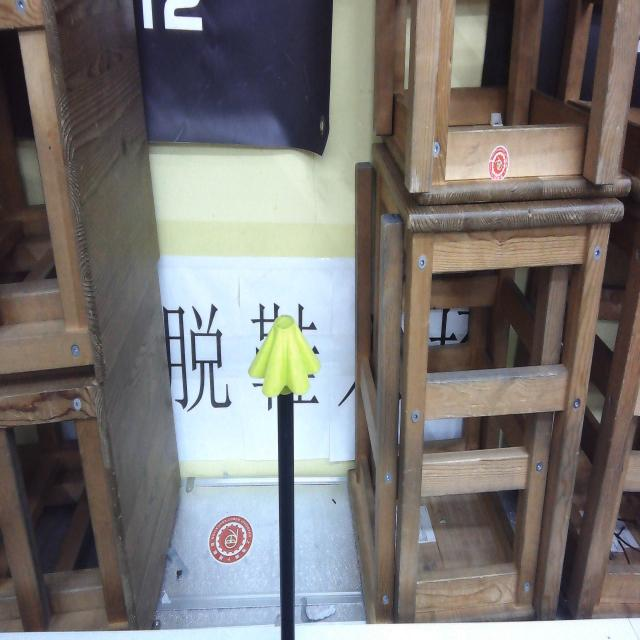Yellow-Stake-Head: (248, 315, 321, 398)
